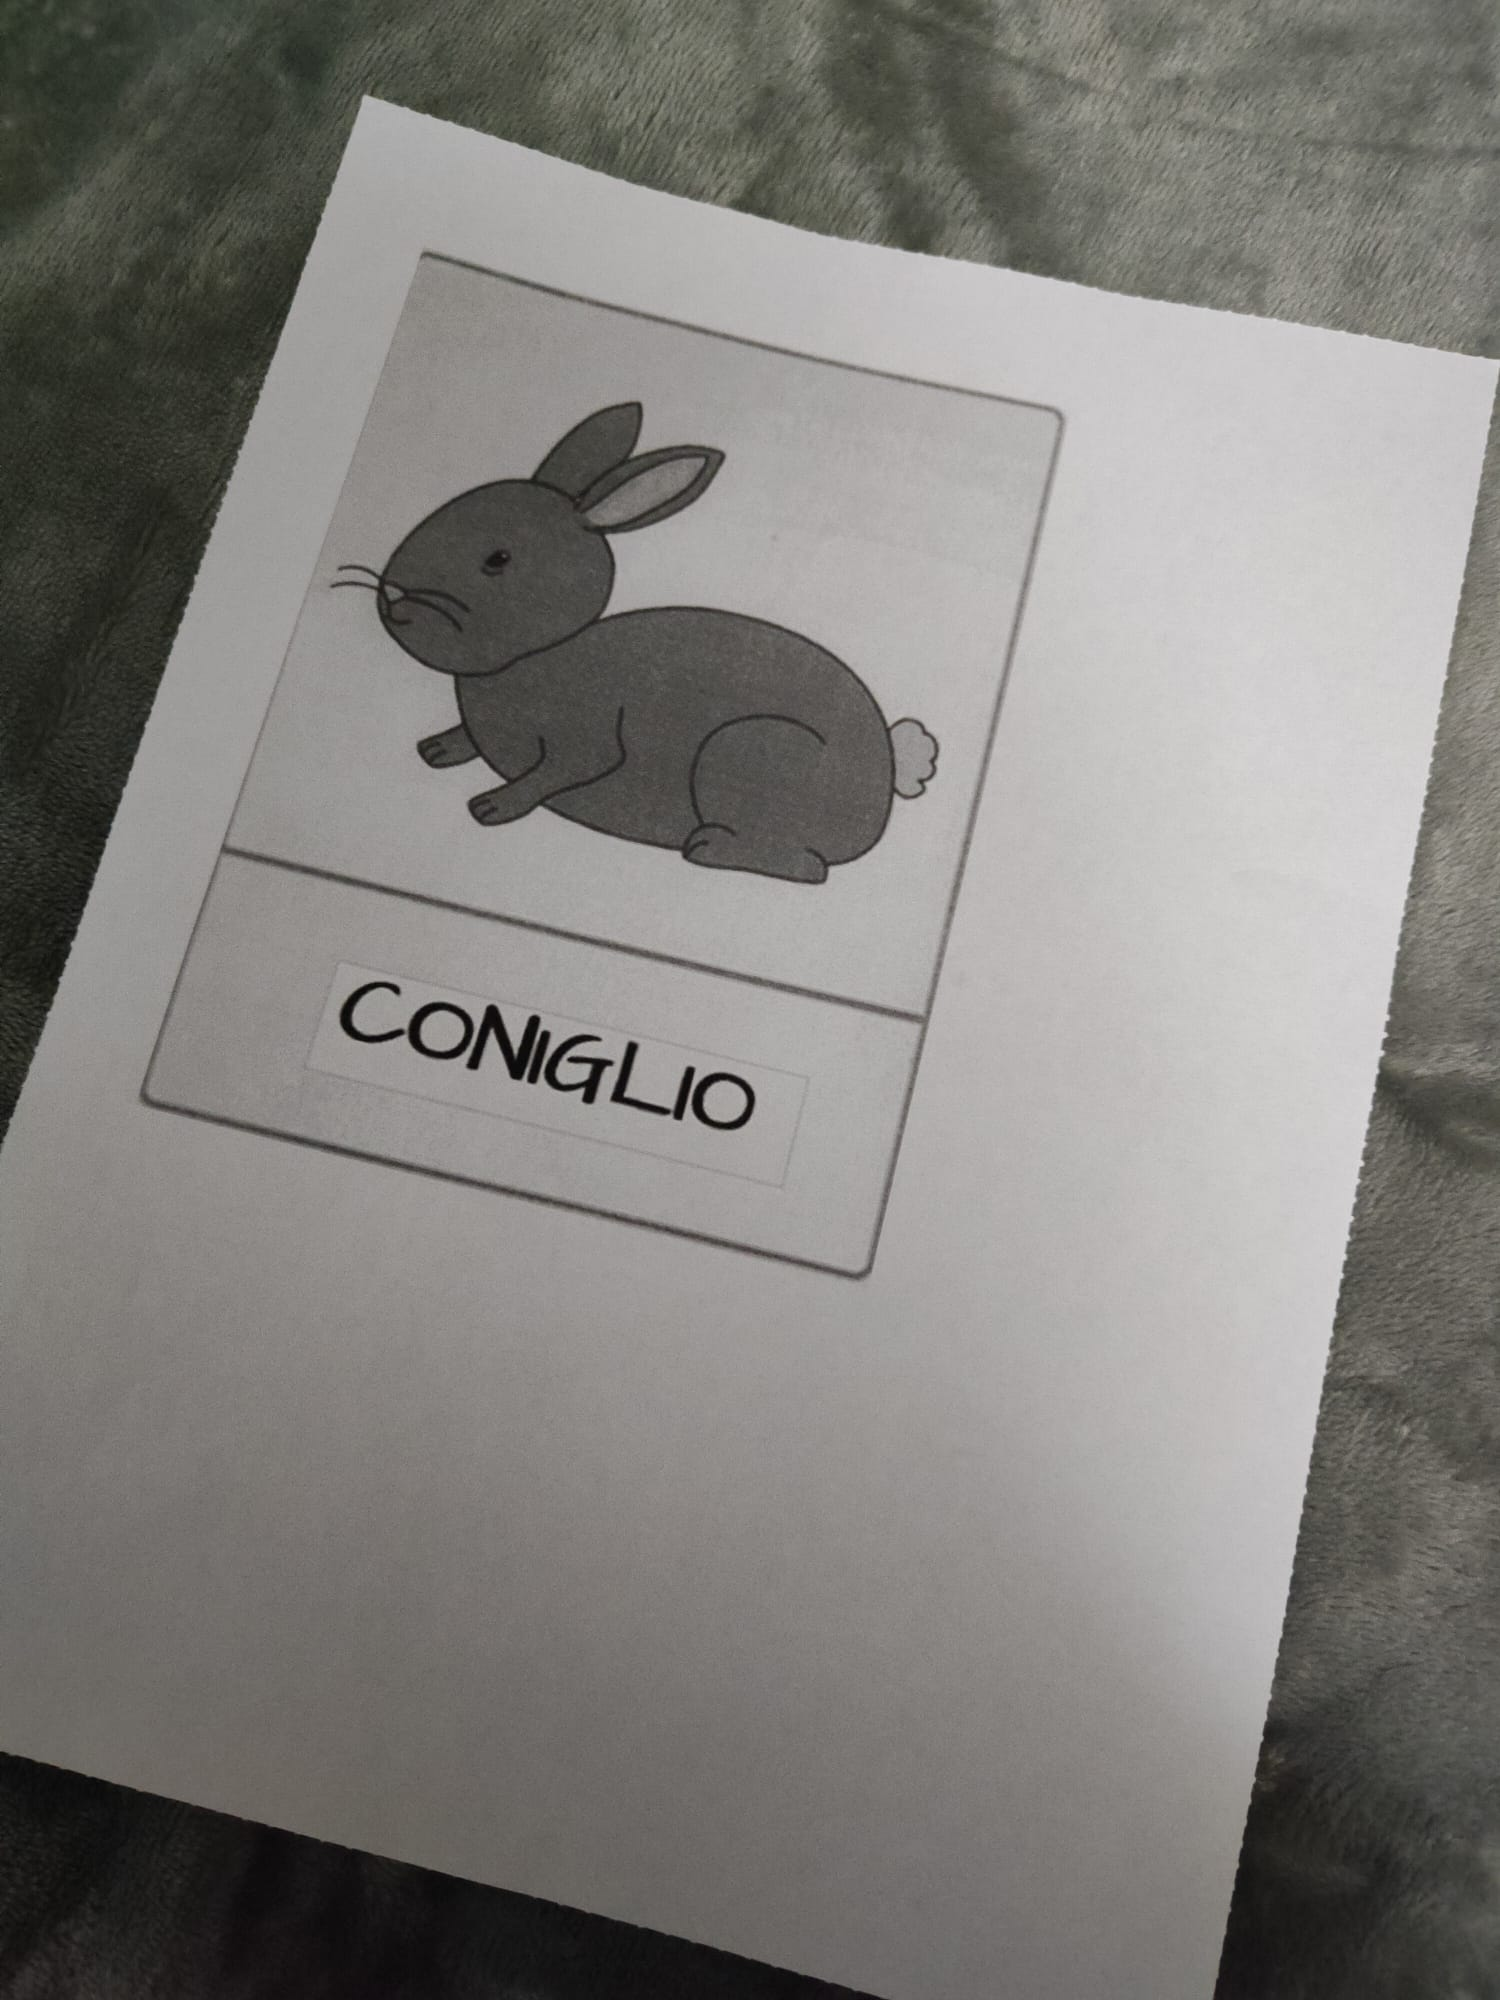coniglio: (314, 249, 960, 1251)
